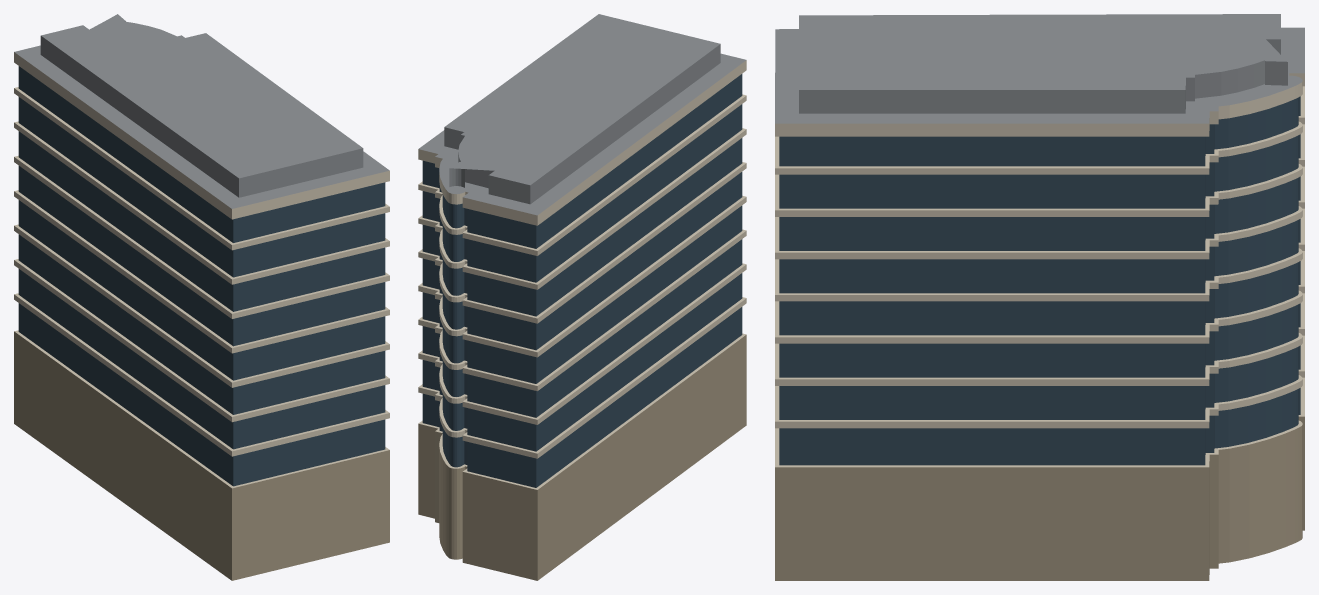
Rendered from 55_west_south_temple.glb.
3 renders of one model, left to right at view 1: azimuth 30°, elevation 25°; view 2: azimuth 150°, elevation 25°; view 3: azimuth 270°, elevation 25°, orthographic. The views are drawn at different scales.
Parts seen in each view (by area): view 1: 55_West_South_Temple; view 2: 55_West_South_Temple; view 3: 55_West_South_Temple.
Boxes of the visible parts, box(x1,y1,x2,y2) form: 55_West_South_Temple: box(14, 14, 389, 580); 55_West_South_Temple: box(418, 14, 746, 580); 55_West_South_Temple: box(775, 14, 1304, 580).
Size of the model in its own units: 19.03 by 44.4 by 44.33.
